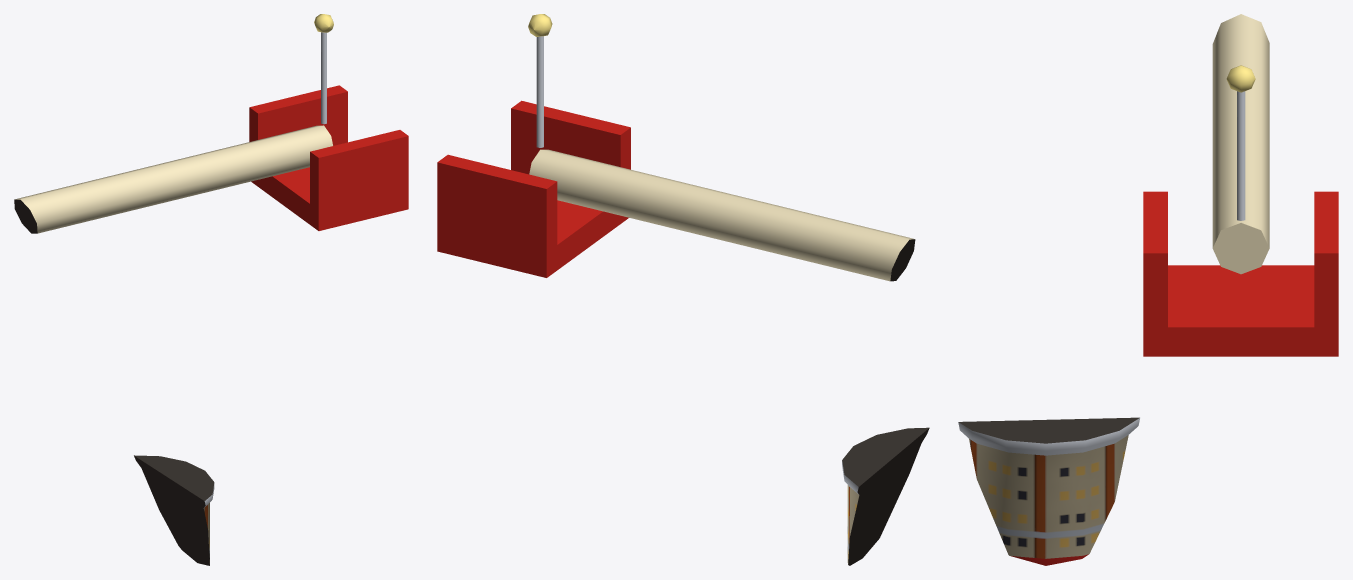
Rendered from mining_facility_debris3.obj.
The picture shows the model from 3 angles, left to right: view 1: azimuth 30°, elevation 25°; view 2: azimuth 150°, elevation 25°; view 3: azimuth 270°, elevation 25°; orthographic projection. The views are drawn at different scales.
Visible parts, largest first — view 1: dock_arm, cradle_side, hopper, cradle, mast; view 2: dock_arm, cradle_side, hopper, cradle, mast; view 3: hopper, cradle, dock_arm, cradle_side, mast, beacon.
Boxes of the visible parts, bbox=[...] form: dock_arm: bbox=[14, 125, 332, 233]; cradle_side: bbox=[249, 85, 408, 209]; hopper: bbox=[134, 455, 214, 565]; cradle: bbox=[251, 167, 408, 230]; mast: bbox=[321, 32, 326, 124]; dock_arm: bbox=[529, 149, 915, 281]; cradle_side: bbox=[437, 100, 630, 252]; hopper: bbox=[842, 427, 929, 565]; cradle: bbox=[437, 200, 628, 277]; mast: bbox=[536, 36, 543, 147]; hopper: bbox=[958, 417, 1139, 565]; cradle: bbox=[1143, 265, 1338, 356]; dock_arm: bbox=[1212, 14, 1269, 274]; cradle_side: bbox=[1143, 191, 1338, 327]; mast: bbox=[1237, 91, 1245, 220]; beacon: bbox=[1226, 65, 1255, 92].
Bounding box in the file's own units: 70.71 × 86.1 × 46.77.
Materials: 7 (1 with a texture image).
